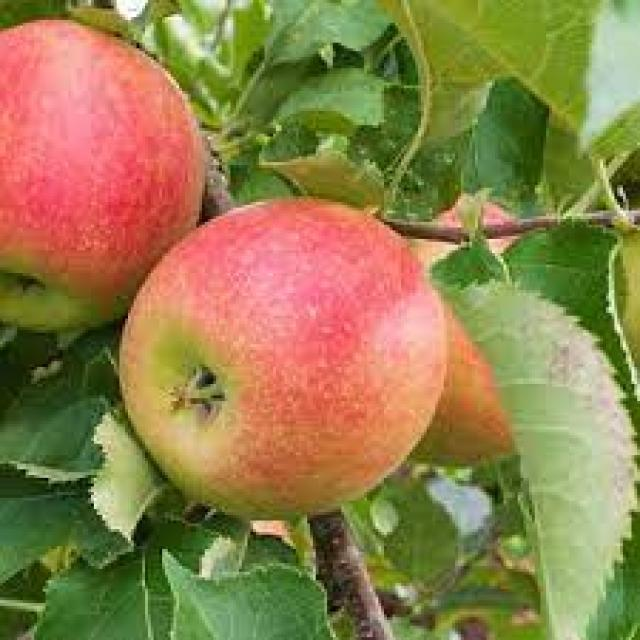Apple: (117, 194, 450, 520), (0, 17, 208, 333)
